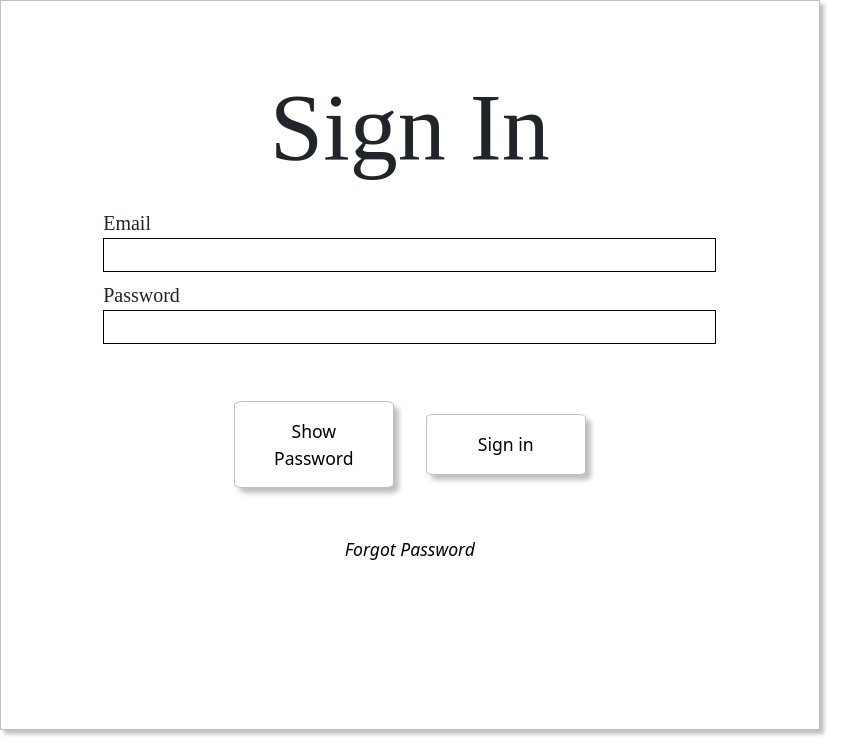
<SignIn /> Component › tests that forgot password link changes route to "/forgot_password and renders <ForgotPassword />
The width and height of the screenshot is (843, 753).
Click the link with aria-label "fp_page_link" at (345, 536), box [345,536,475,563]
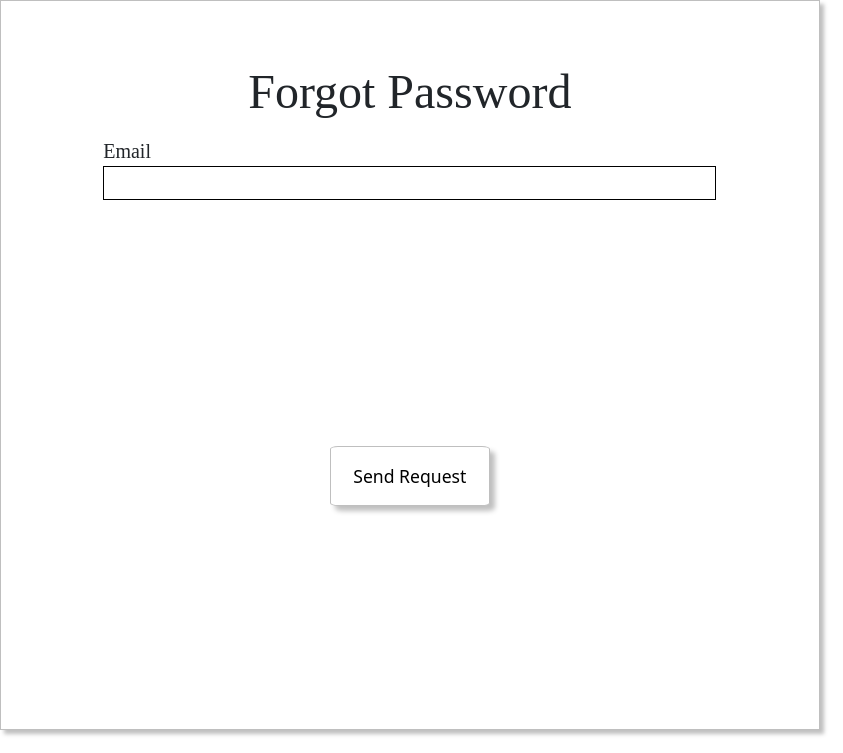
Expected: the element "Forgot Password Email" is shown, [103,65,716,200]
